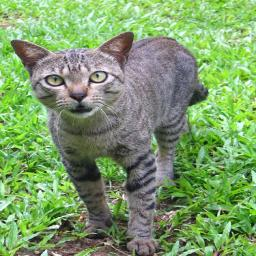catnose: (69, 92, 88, 102)
